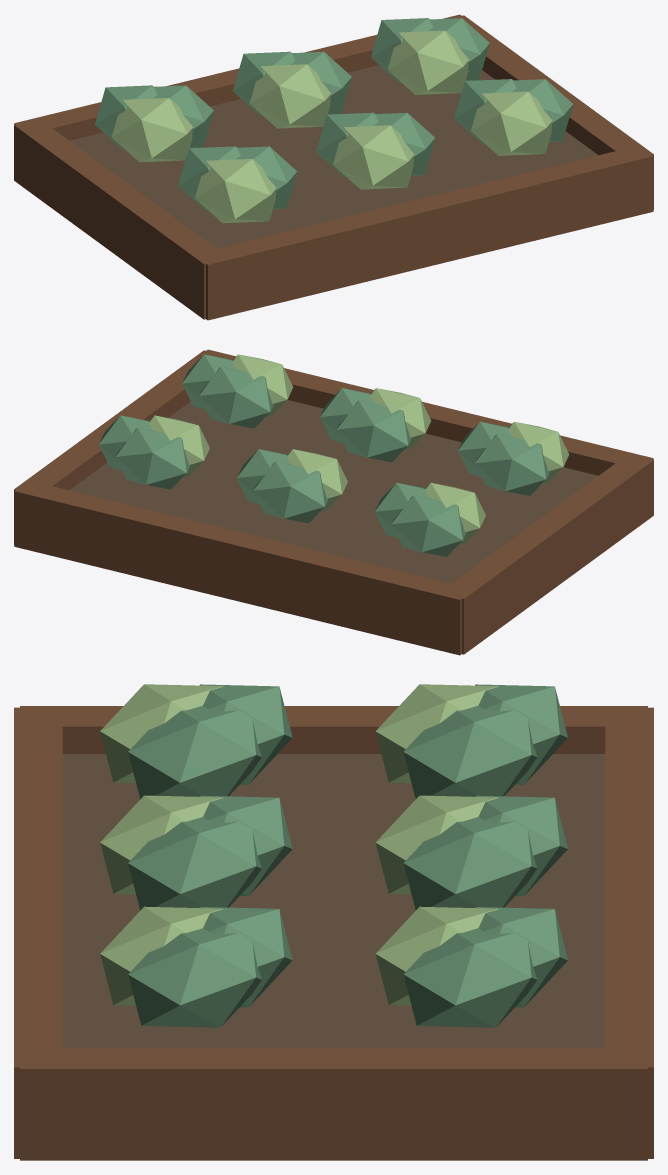
File: zahonek.glb
3 renders of one model, top to bottom at view 1: azimuth 30°, elevation 25°; view 2: azimuth 150°, elevation 25°; view 3: azimuth 270°, elevation 25°, orthographic. The views are drawn at different scales.
Visible parts, largest first — view 1: material_785239, material_665340, material_9ebc85, material_6d9978; view 2: material_785239, material_665340, material_6d9978, material_9ebc85; view 3: material_785239, material_6d9978, material_665340, material_9ebc85.
Boxes of the visible parts, x1,y1,x2,y2 form: material_785239: (14, 14, 653, 320); material_665340: (69, 65, 597, 248); material_9ebc85: (111, 30, 552, 223); material_6d9978: (95, 18, 573, 210); material_785239: (14, 349, 653, 655); material_665340: (70, 400, 598, 583); material_6d9978: (99, 354, 549, 556); material_9ebc85: (149, 354, 569, 544); material_785239: (14, 706, 653, 1160); material_6d9978: (128, 684, 567, 1027); material_665340: (62, 754, 605, 1048); material_9ebc85: (100, 684, 498, 1005).
Size of the model in its own units: 2.12 by 0.4748 by 1.58.
